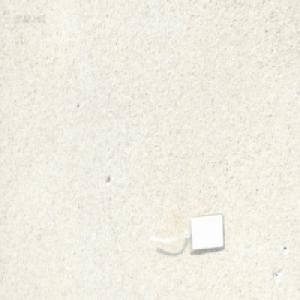LuggageTag: (147, 209, 223, 252)
